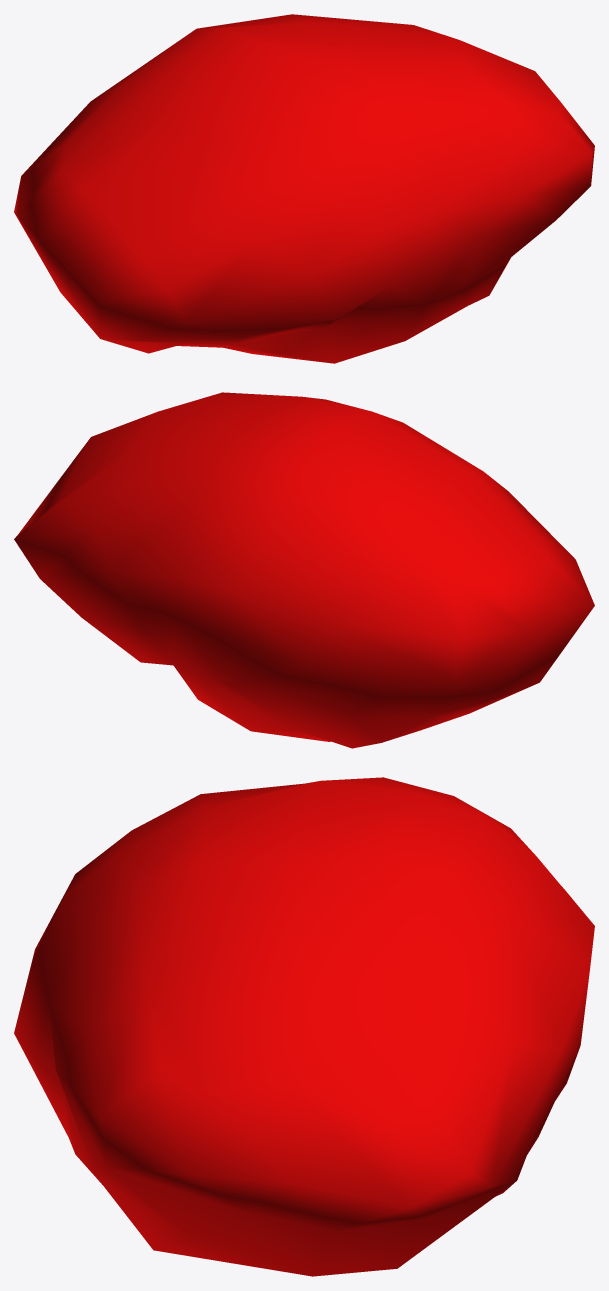
Rendered from FloatyWallAttachment06_mesh.fbx.
3 views of the same model, one above another, from view 1: azimuth 30°, elevation 25°; view 2: azimuth 150°, elevation 25°; view 3: azimuth 270°, elevation 25° (orthographic). The views are drawn at different scales.
Parts seen in each view (by area): view 1: Floaty_wallattachment06_model; view 2: Floaty_wallattachment06_model; view 3: Floaty_wallattachment06_model.
Boxes of the visible parts, x1,y1,x2,y2 form: Floaty_wallattachment06_model: (14,14,594,363); Floaty_wallattachment06_model: (14,392,594,748); Floaty_wallattachment06_model: (14,777,594,1276).
Size of the model in its own units: 42.86 by 24.76 by 29.29.
